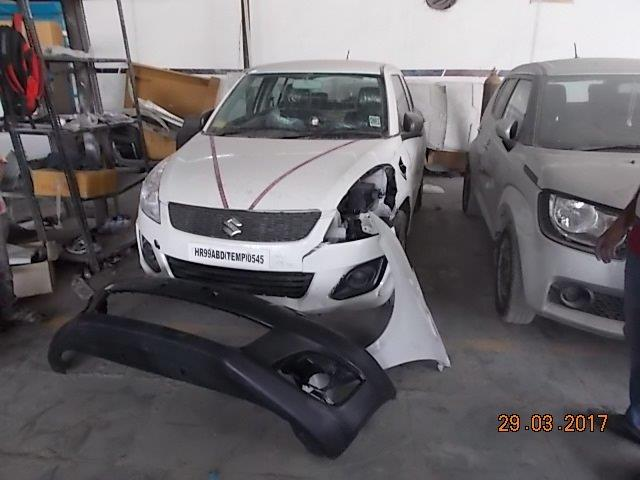Tear: (302, 241, 326, 263), (395, 149, 411, 182)
